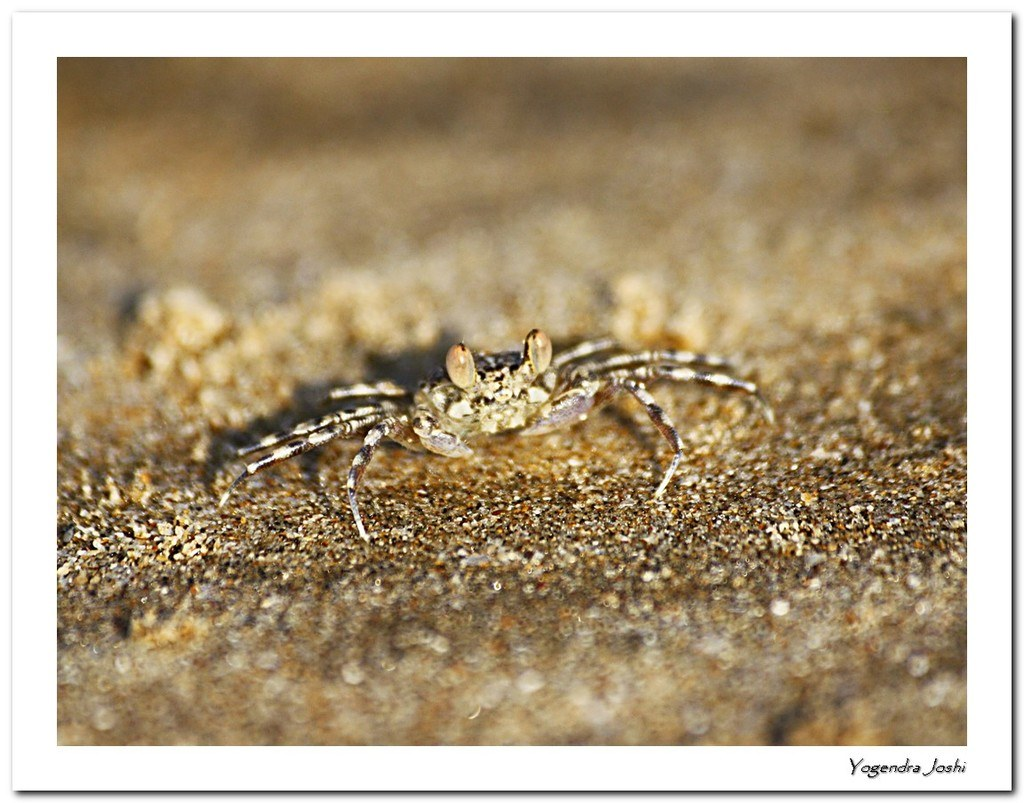insect: (211, 316, 756, 551), (212, 328, 784, 546)
